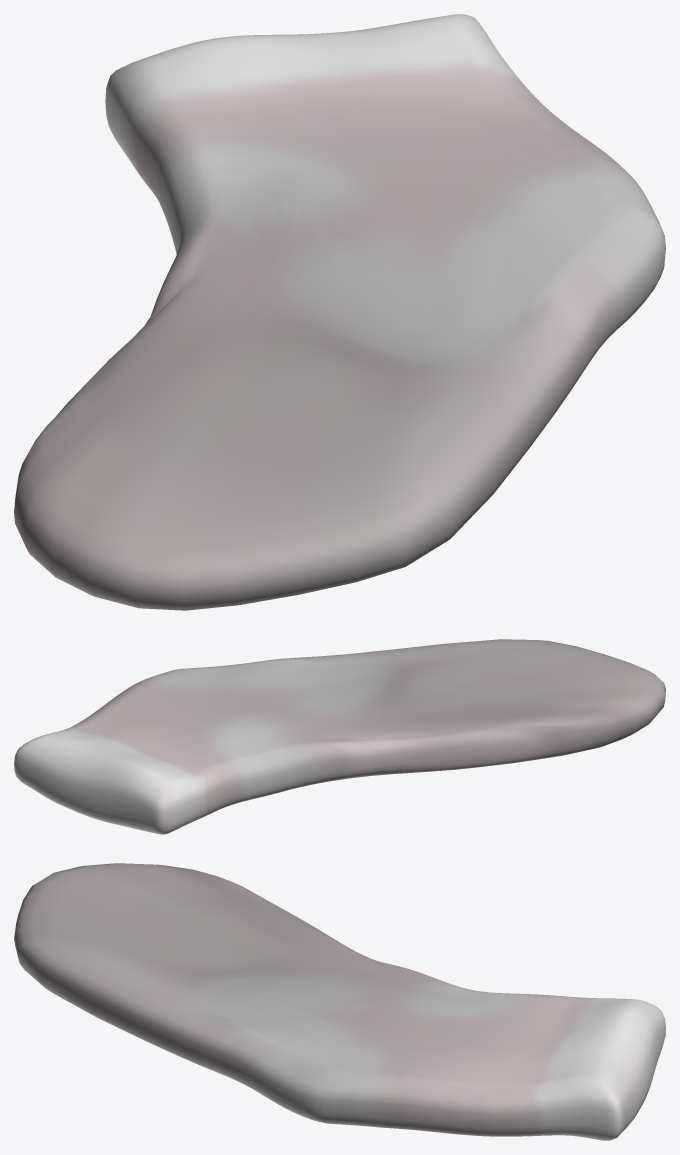
The model's file is Socke.fbx.
3 renders of one model, top to bottom at view 1: azimuth 30°, elevation 25°; view 2: azimuth 150°, elevation 25°; view 3: azimuth 270°, elevation 25°, orthographic. The views are drawn at different scales.
Parts seen in each view (by area): view 1: Plane.007; view 2: Plane.007; view 3: Plane.007.
Part boxes in pixels (x1,y1,x2,y2): Plane.007: (14, 14, 665, 610); Plane.007: (14, 639, 665, 834); Plane.007: (14, 863, 665, 1140).
Size of the model in its own units: 115 by 15.15 by 128.
Materials: 1 (1 with a texture image).
